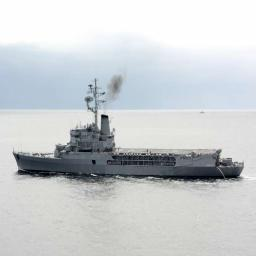Portanaves: (12, 76, 247, 181)
